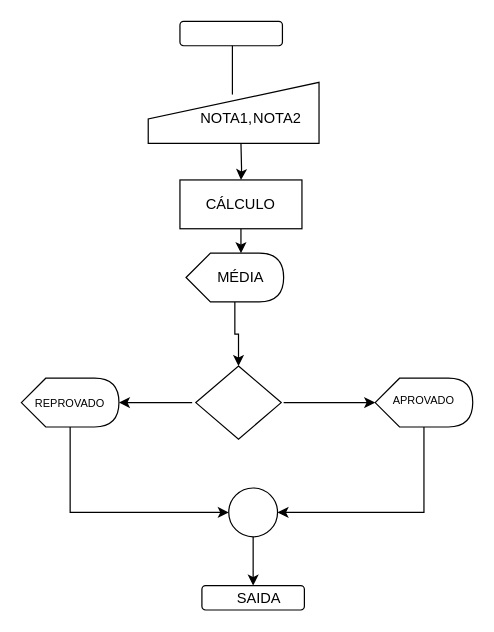
The diagram is 494 pixels wide and 632 high, and some of its shapes have lost their labels. Here are the shapes that lost their labels. From the top down, the centre of each, then its label:
At pixel 230 33: "ENTRADA".
At pixel 238 402: "MAIOR QUE 7".
